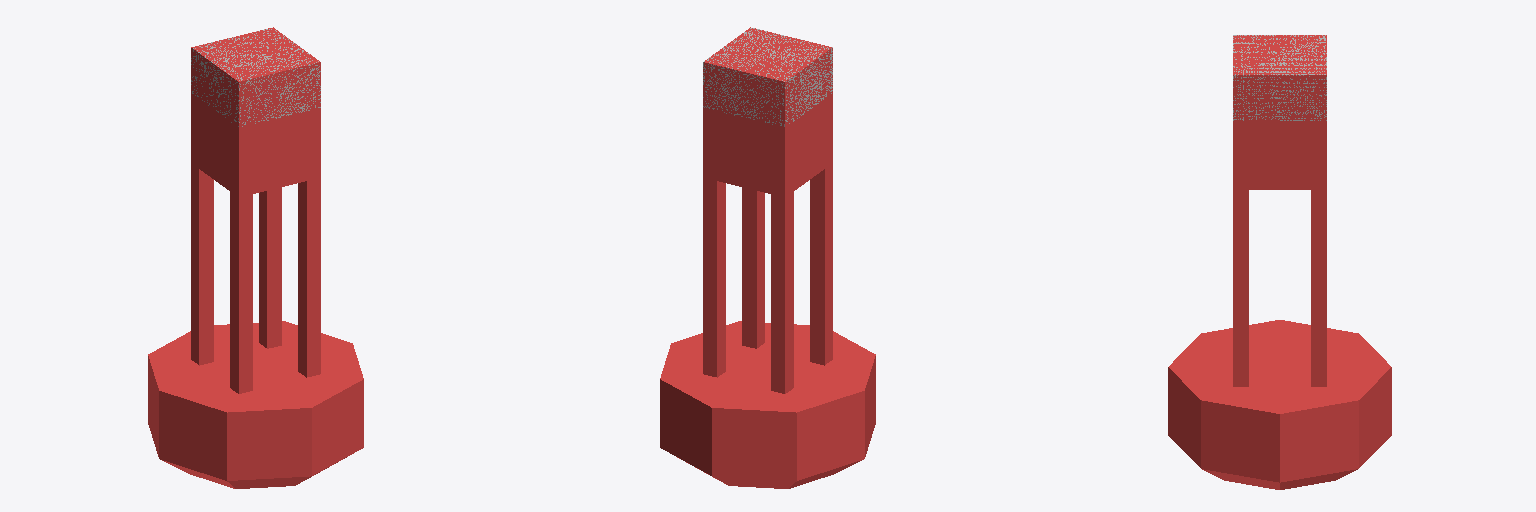
File: buoy.obj
The picture shows the model from 3 angles: view 1: azimuth 30°, elevation 25°; view 2: azimuth 150°, elevation 25°; view 3: azimuth 270°, elevation 25°; orthographic projection.
Visible parts, largest first — view 1: buoy; view 2: buoy; view 3: buoy.
Boxes of the visible parts, <box> form: buoy: <box>148,27,363,488</box>; buoy: <box>660,27,875,488</box>; buoy: <box>1168,35,1391,489</box>.
Size of the model in its own units: 0.9282 by 1.84 by 0.9282.